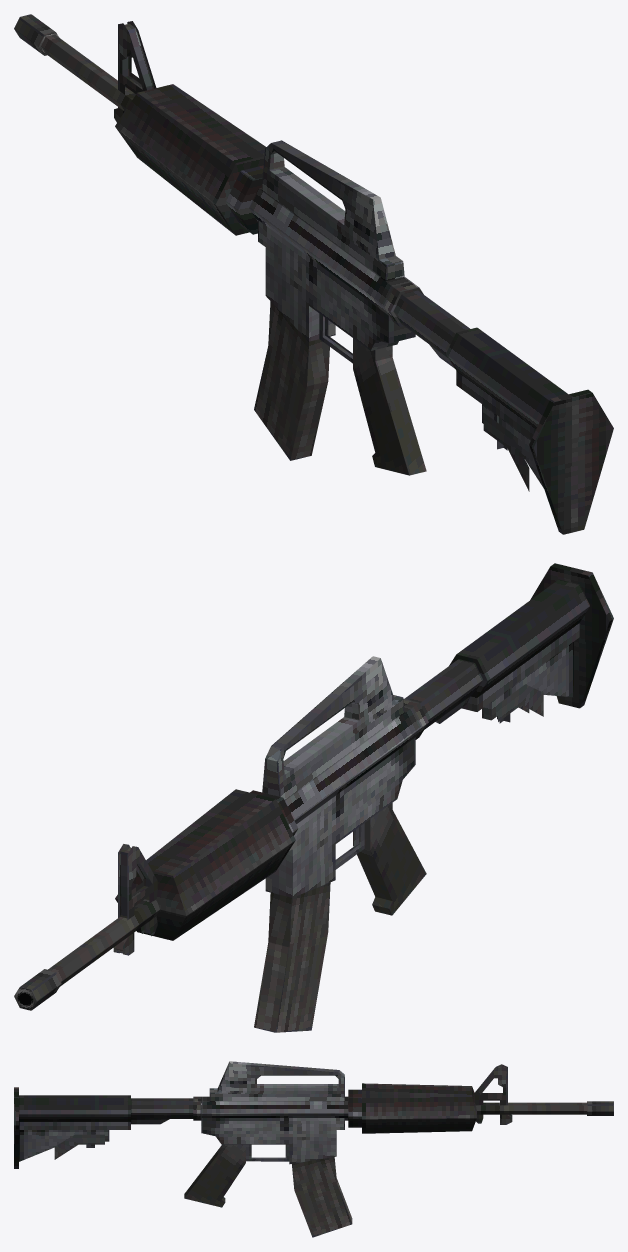
The model's file is recovered_gun_m4acarbine_3cc5d9ba.glb.
The picture shows the model from 3 angles, top to bottom: view 1: azimuth 30°, elevation 25°; view 2: azimuth 150°, elevation 25°; view 3: azimuth 270°, elevation 25°; orthographic projection. The views are drawn at different scales.
Parts seen in each view (by area): view 1: Gun_9a4a08e6b9bf; view 2: Gun_9a4a08e6b9bf; view 3: Gun_9a4a08e6b9bf.
Part boxes in pixels (bbox=[...]): Gun_9a4a08e6b9bf: bbox=[14, 14, 613, 534]; Gun_9a4a08e6b9bf: bbox=[20, 563, 613, 1032]; Gun_9a4a08e6b9bf: bbox=[14, 1061, 613, 1237].
Size of the model in its own units: 0.0751 by 0.2813 by 0.8861.
Materials: 2 (2 with a texture image).
